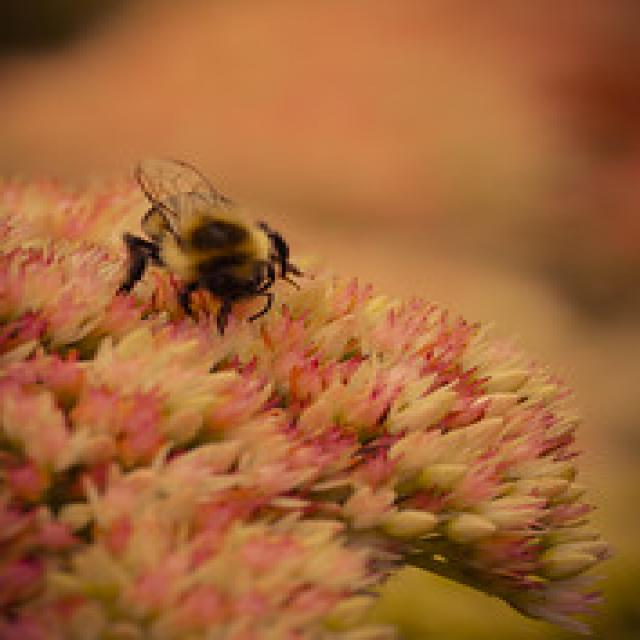Abeille: (107, 148, 338, 347)
